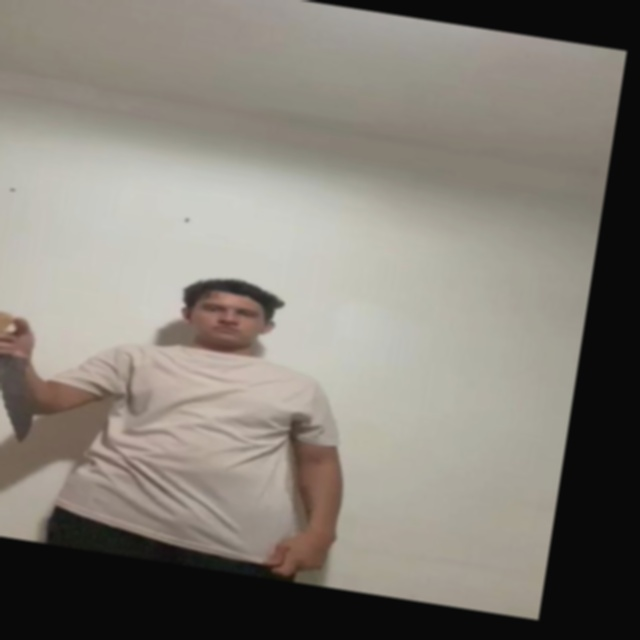Sharp-Object: (0, 356, 45, 444)
